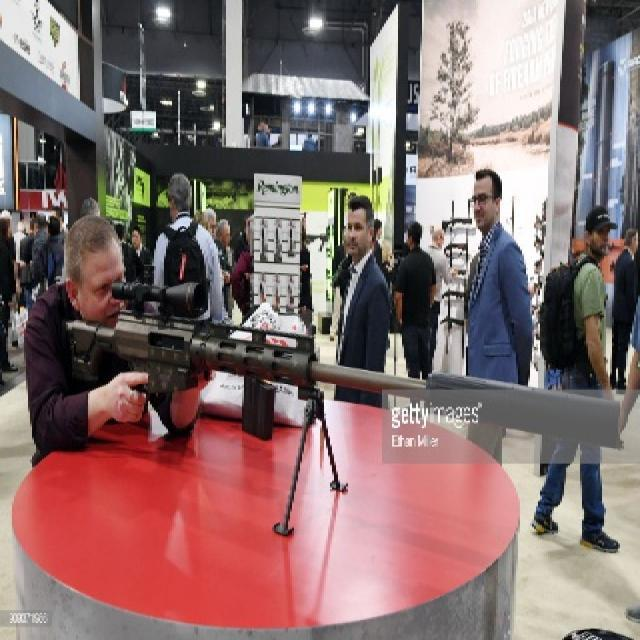weapon: (56, 277, 636, 465)
